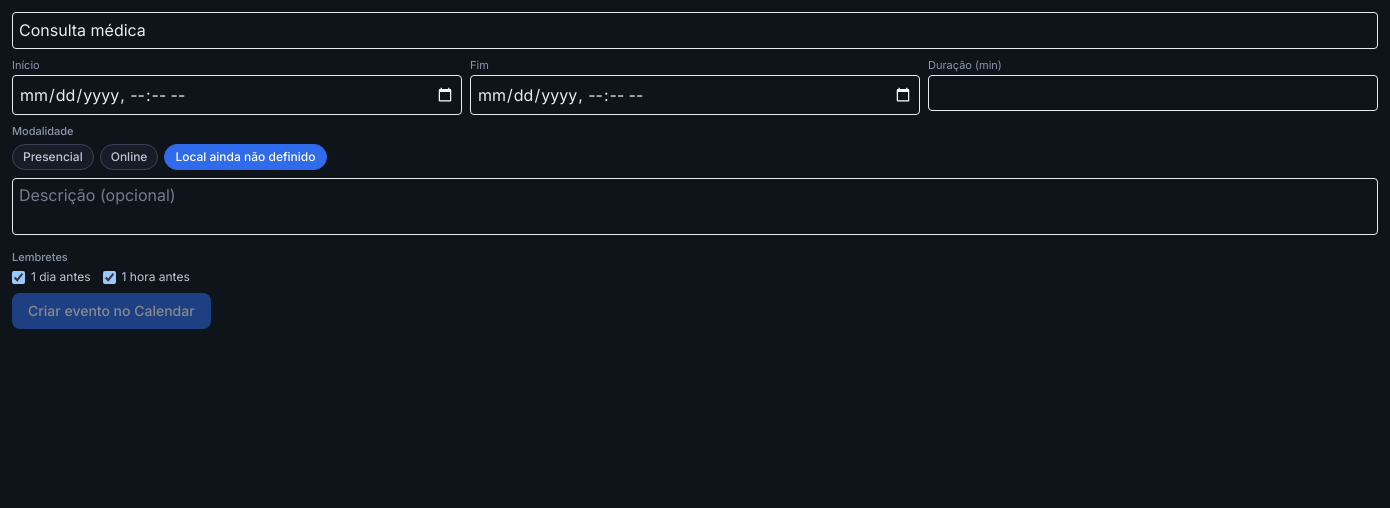
it: CalendarEventCreator — criação manual (sem aiRunId) › não envia aiRunId no payload quando a prop não é fornecida
Step 1. Type "2026-08-05T10:00" into the field labelled "Início" → (237, 95), box [12,75,462,115]
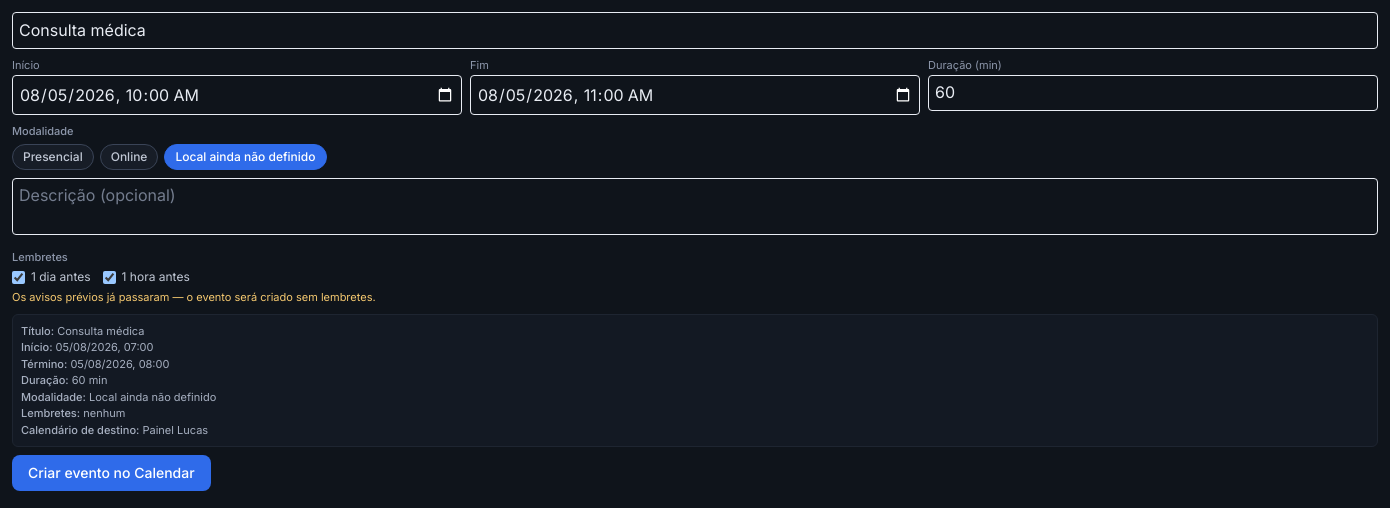
Step 2. Click the button "Criar evento no Calendar" → (111, 473), box [12,455,211,491]
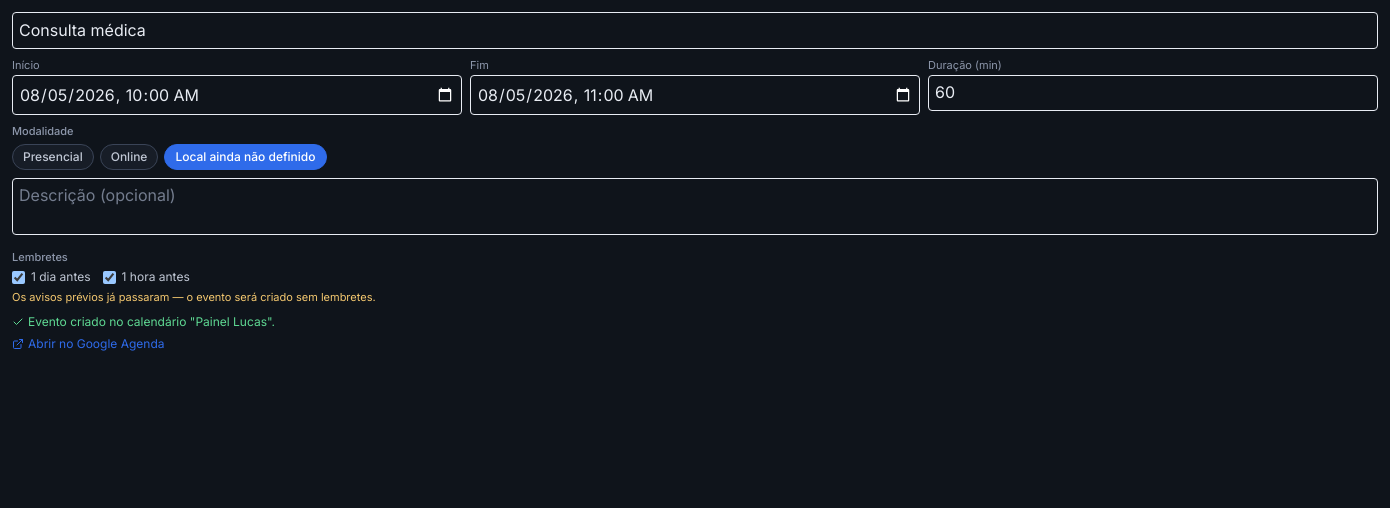
Check: the text "Evento criado no calendário \"Painel Lucas\"." is shown, box [12,314,275,328]
